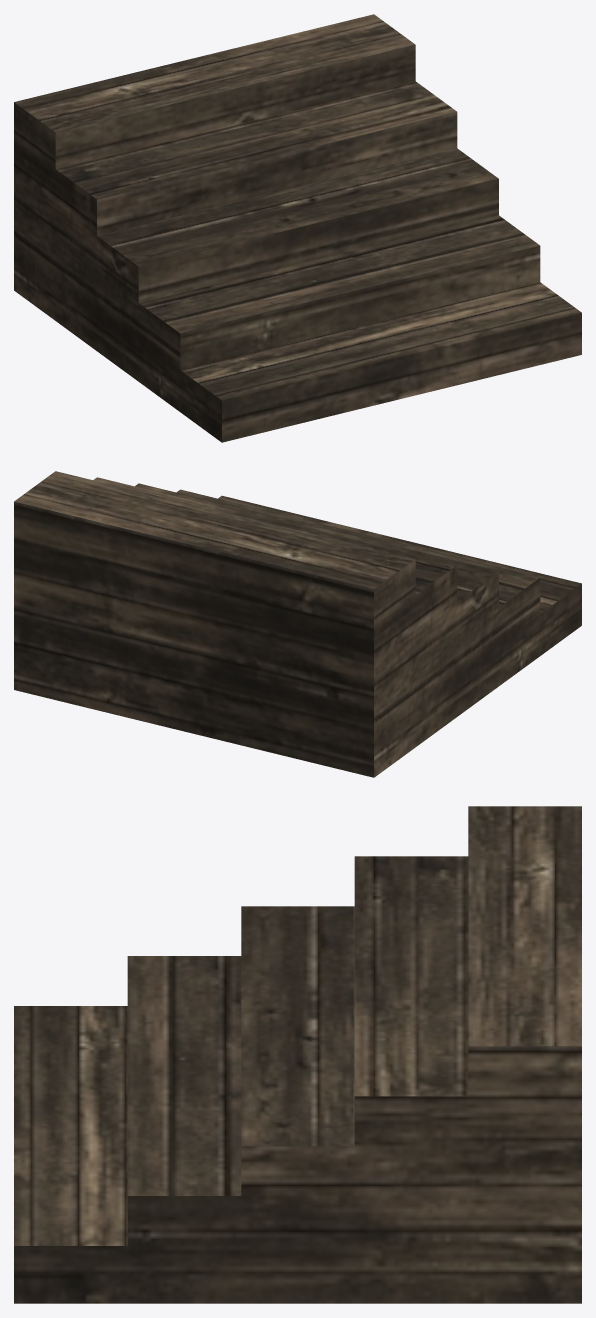
Rendered from Stairs 1.fbx.
3 views of the same model, one above another, from view 1: azimuth 30°, elevation 25°; view 2: azimuth 150°, elevation 25°; view 3: azimuth 270°, elevation 25° (orthographic). The views are drawn at different scales.
Parts seen in each view (by area): view 1: Cube; view 2: Cube; view 3: Cube.
Boxes of the visible parts, box(x1,y1,x2,y2) form: Cube: box(14, 14, 581, 442); Cube: box(14, 471, 581, 777); Cube: box(14, 806, 581, 1303).
Bounding box in the file's own units: 400 × 200 × 400.
1 material, 1 textured.
